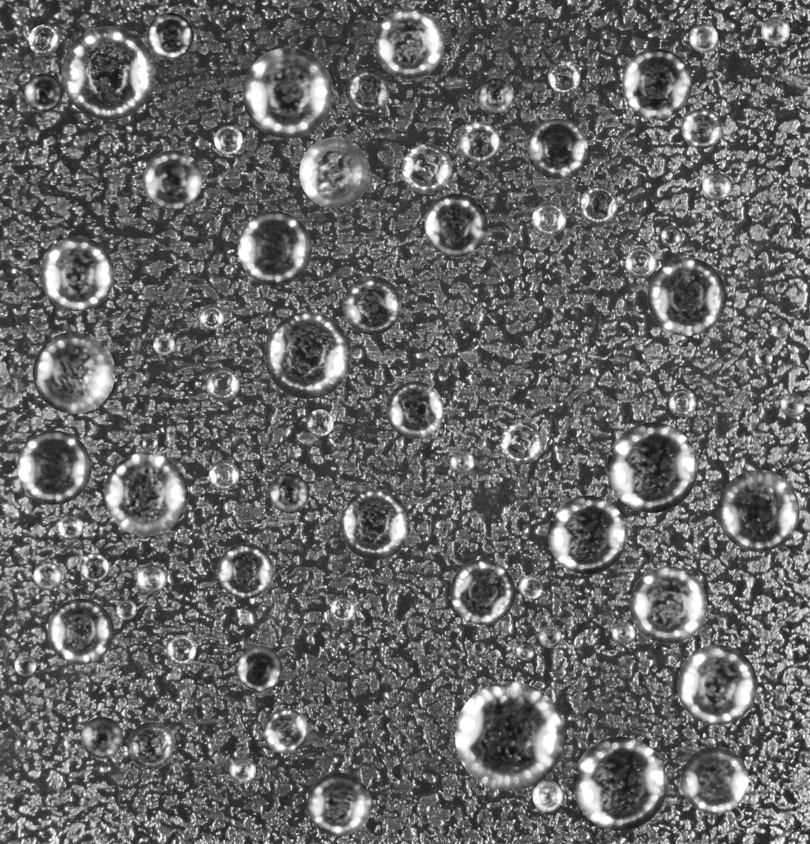Bubble: (455, 681, 564, 790), (61, 26, 155, 120), (573, 736, 667, 830), (242, 47, 333, 138), (607, 422, 697, 512), (264, 311, 351, 398), (104, 452, 187, 536), (32, 331, 115, 413), (717, 470, 799, 551), (677, 644, 757, 725), (647, 257, 726, 336), (548, 495, 627, 574), (630, 566, 707, 643), (39, 236, 114, 311), (17, 430, 91, 504), (237, 211, 311, 285), (339, 489, 410, 560), (374, 8, 444, 79), (299, 137, 369, 208), (622, 48, 692, 118), (681, 746, 748, 814), (47, 598, 113, 664), (450, 559, 515, 624), (306, 772, 370, 836), (424, 193, 487, 256), (527, 118, 587, 179), (143, 150, 202, 209), (342, 276, 401, 334), (386, 381, 443, 438), (218, 543, 273, 598), (402, 143, 452, 194), (127, 722, 175, 769), (146, 12, 193, 59), (237, 646, 282, 691), (263, 708, 308, 753), (345, 69, 389, 113), (500, 422, 543, 464), (81, 716, 122, 758), (458, 122, 500, 163), (681, 108, 722, 148), (269, 473, 309, 513), (24, 73, 62, 111), (579, 186, 617, 224), (478, 78, 514, 114), (532, 201, 566, 236), (205, 367, 239, 401), (548, 60, 580, 93), (625, 247, 656, 278), (28, 24, 59, 55), (532, 781, 563, 811), (208, 460, 239, 490), (79, 553, 109, 583), (136, 563, 166, 593), (166, 635, 196, 664), (702, 171, 732, 200), (689, 23, 718, 52), (761, 16, 790, 45), (214, 125, 242, 154), (33, 561, 61, 590), (668, 388, 696, 416), (306, 409, 333, 436), (56, 513, 83, 540), (229, 757, 256, 783), (198, 304, 223, 329), (330, 597, 355, 621), (518, 575, 543, 599), (450, 450, 474, 474), (612, 621, 635, 645), (781, 393, 804, 417), (538, 625, 561, 648), (14, 654, 36, 676), (153, 333, 174, 355), (661, 226, 681, 247), (515, 641, 535, 661), (116, 599, 136, 619), (755, 349, 772, 366), (771, 320, 788, 337), (142, 435, 157, 451), (16, 735, 31, 750), (471, 641, 485, 655)
